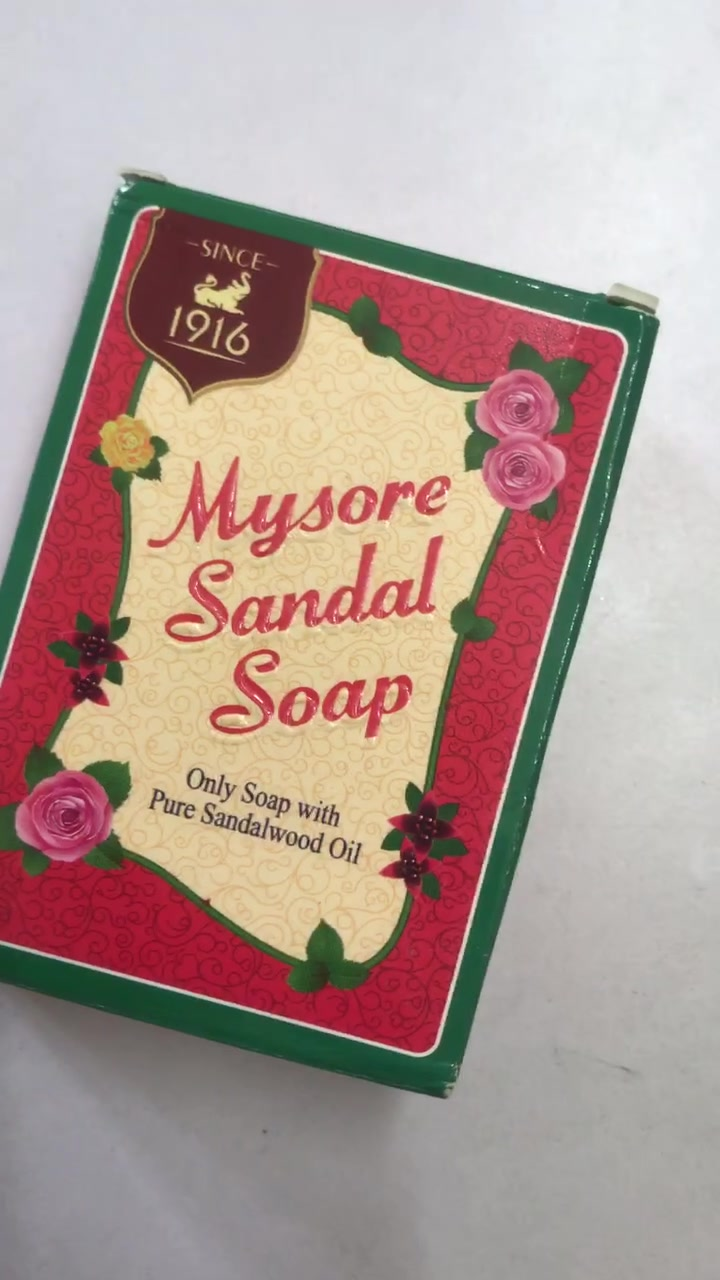mysore sandal soap: (2, 177, 653, 1102)
